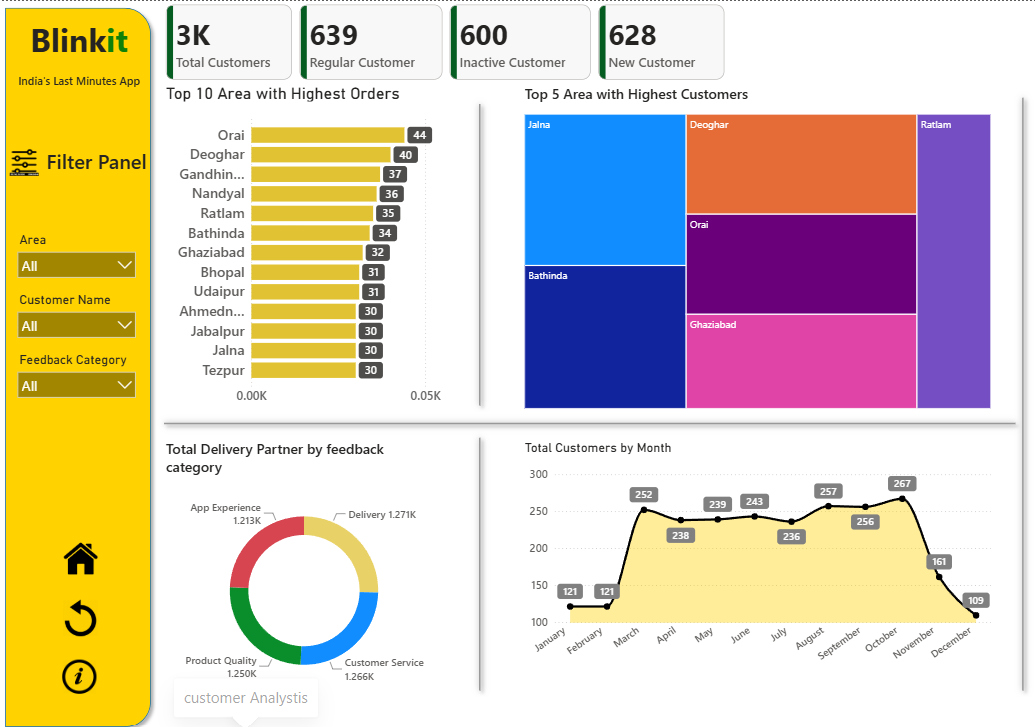

What the dashboard file says about the page in this screenshot:
{"tool":"powerbi","page":{"name":"customer Analystis","canvas":[1800,1000],"ordinal":1},"visuals":[{"type":"clusteredBarChart","title":"Top 10 Area with Highest Orders","fields":{"Category":["blinkit_customers.area"],"Y":["All Measures.Total Orders"]},"box":[221.7,110,423.3,438.3],"z":0},{"type":"treemap","title":"Top 5 Area with Highest Customers","fields":{"Group":["blinkit_customers.area"],"Values":["All Measures.Total Customers"]},"box":[700,110,631.7,438.3],"z":1000},{"type":"donutChart","title":"Total Delivery Partner by feedback category","fields":{"Category":["blinkit_customer_feedback.feedback_category"],"Y":["All Measures.Total Delivery Partner"]},"box":[221.7,583.3,378.3,345],"z":2000},{"type":"areaChart","fields":{"Category":["blinkit_customers.registration_date.Variation.Date Hierarchy.Year","blinkit_customers.registration_date.Variation.Date Hierarchy.Quarter","blinkit_customers.registration_date.Variation.Date Hierarchy.Month","blinkit_customers.registration_date.Variation.Date Hierarchy.Day"],"Y":["All Measures.Total Customers"]},"box":[700,585,631.7,315],"z":3000},{"type":"cardVisual","fields":{"Data":["All Measures.Total Customers"]},"box":[221.7,0,178.3,110],"z":4000},{"type":"cardVisual","fields":{"Data":["All Measures.Regular Customer"]},"box":[400,0,200,110],"z":5000},{"type":"cardVisual","fields":{"Data":["All Measures.New Customer"]},"box":[798.3,0,178.3,110],"z":6000},{"type":"cardVisual","fields":{"Data":["All Measures.Inactive Customer"]},"box":[600,0,198.3,110],"z":7000},{"type":"shape","box":[3.8,0,212.3,978.3],"z":8000},{"type":"image","box":[75,706.7,75.6,73.8],"z":9000},{"type":"image","box":[88.3,794.3,49.2,54.8],"z":10000},{"type":"image","box":[88.3,873.3,45.4,54.8],"z":11000},{"type":"image","box":[18.3,185,38.3,58.3],"z":12000},{"type":"textbox","box":[36.7,16.7,148.3,75],"z":13000},{"type":"textbox","box":[21.7,91.7,178.3,36.7],"z":14000},{"type":"textbox","box":[56.7,190,155,48.3],"z":15000},{"type":"slicer","fields":{"Values":["blinkit_customers.area"]},"box":[18.3,303.3,178.3,80],"z":16000},{"type":"slicer","fields":{"Values":["blinkit_customer_feedback.feedback_category"]},"box":[18.3,463.3,178.3,80],"z":17000},{"type":"slicer","fields":{"Values":["blinkit_customers.customer_name"]},"box":[18.3,383.3,178.3,80],"z":18000},{"type":"shape","box":[215,543.3,1153.3,40],"z":19000},{"type":"shape","box":[628.3,573.3,33.3,355],"z":20000},{"type":"shape","box":[628.3,128.3,33.3,420],"z":21000},{"type":"shape","box":[1351.7,120,35,808.3],"z":22000}]}

Visuals, with their boxes on the page's 1800x1000 design canvas (x1, y1, x2, y2). These are canvas units, not pixel positions in the 1035x727 screenshot, which may show the page scaled, cropped or inside an application window:
"Top 10 Area with Highest Orders" clusteredBarChart: region(222, 110, 645, 548)
"Top 5 Area with Highest Customers" treemap: region(700, 110, 1332, 548)
"Total Delivery Partner by feedback category" donutChart: region(222, 583, 600, 928)
areaChart - blinkit_customers.registration_date.Variation.Date Hierarchy.Year x blinkit_customers.registration_date.Variation.Date Hierarchy.Quarter: region(700, 585, 1332, 900)
cardVisual - All Measures.Total Customers: region(222, 0, 400, 110)
cardVisual - All Measures.Regular Customer: region(400, 0, 600, 110)
cardVisual - All Measures.New Customer: region(798, 0, 977, 110)
cardVisual - All Measures.Inactive Customer: region(600, 0, 798, 110)
shape: region(4, 0, 216, 978)
image: region(75, 707, 151, 780)
image: region(88, 794, 138, 849)
image: region(88, 873, 134, 928)
image: region(18, 185, 57, 243)
textbox: region(37, 17, 185, 92)
textbox: region(22, 92, 200, 128)
textbox: region(57, 190, 212, 238)
slicer - blinkit_customers.area: region(18, 303, 197, 383)
slicer - blinkit_customer_feedback.feedback_category: region(18, 463, 197, 543)
slicer - blinkit_customers.customer_name: region(18, 383, 197, 463)
shape: region(215, 543, 1368, 583)
shape: region(628, 573, 662, 928)
shape: region(628, 128, 662, 548)
shape: region(1352, 120, 1387, 928)
